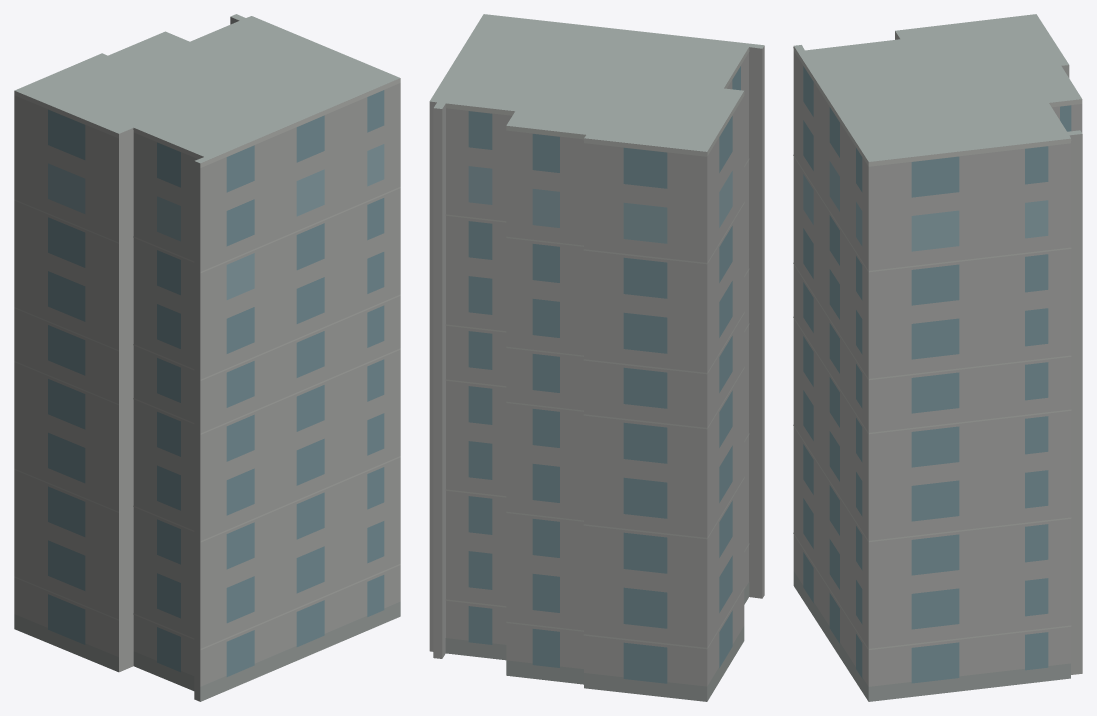
The model's file is survey-upis-32671190.glb.
3 views of the same model, side by side, from view 1: azimuth 30°, elevation 25°; view 2: azimuth 150°, elevation 25°; view 3: azimuth 270°, elevation 25° (orthographic). The views are drawn at different scales.
Visible parts, largest first — view 1: survey-upis-32671190.tmp; view 2: survey-upis-32671190.tmp; view 3: survey-upis-32671190.tmp.
Part boxes in pixels (x1,y1,x2,y2): survey-upis-32671190.tmp: (14, 14, 400, 701); survey-upis-32671190.tmp: (429, 14, 764, 701); survey-upis-32671190.tmp: (793, 14, 1082, 701).
Bounding box in the file's own units: 16.31 × 27.7 × 13.45.
